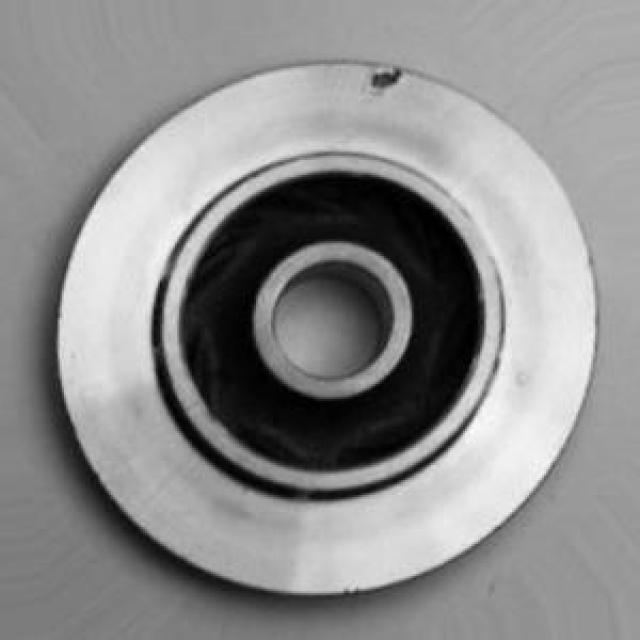Defect: (368, 64, 421, 94)
